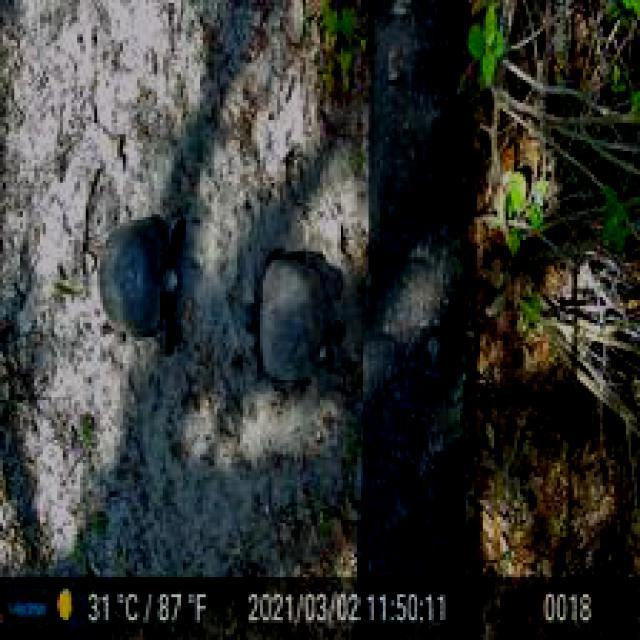tortoise: (91, 211, 183, 359), (243, 249, 337, 392)
